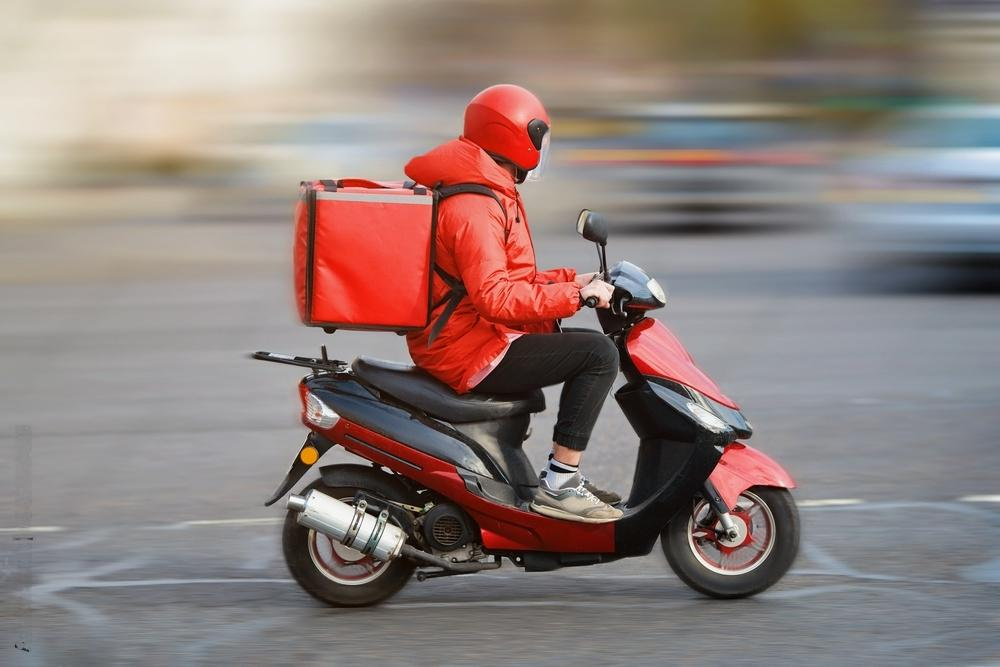helmet: (462, 82, 552, 185)
